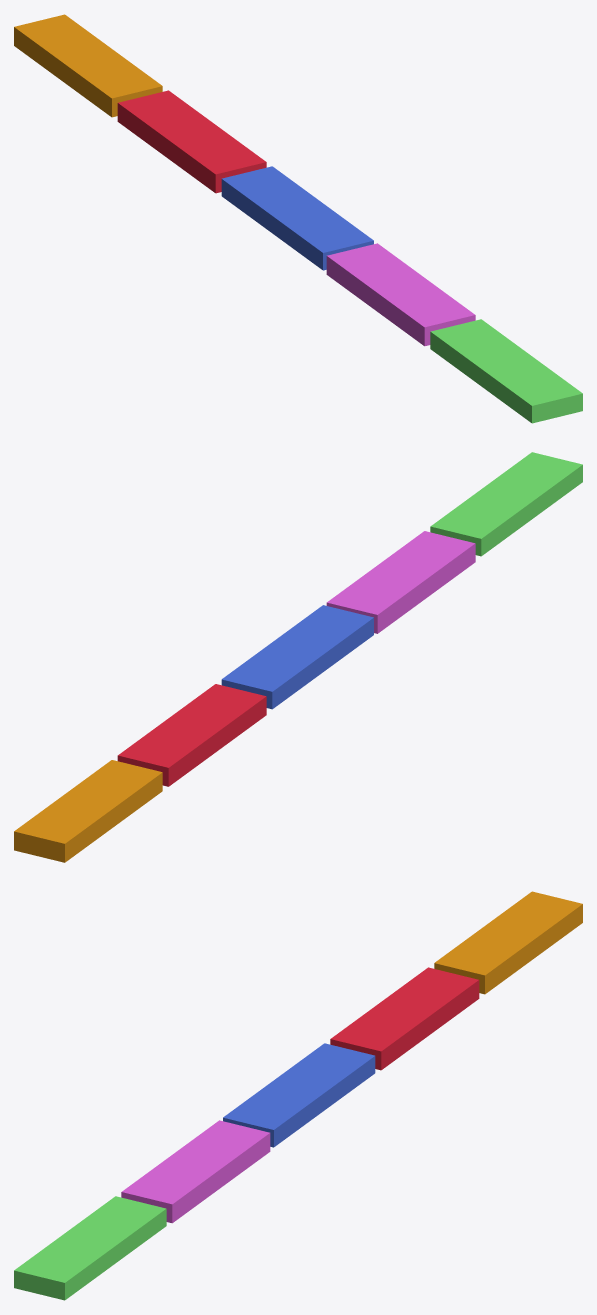
The model's file is koristecandy.fbx.
3 renders of one model, top to bottom at view 1: azimuth 30°, elevation 25°; view 2: azimuth 150°, elevation 25°; view 3: azimuth 330°, elevation 25°, orthographic.
Visible parts, largest first — view 1: Cube.001, Cube.003, Cube, Cube.004, Cube.002; view 2: Cube.004, Cube.001, Cube.002, Cube.003, Cube; view 3: Cube.001, Cube.003, Cube, Cube.004, Cube.002.
Boxes of the visible parts, bbox=[...] form: Cube.001: bbox=[430, 319, 582, 423]; Cube.003: bbox=[117, 90, 266, 193]; Cube: bbox=[326, 243, 475, 346]; Cube.004: bbox=[14, 14, 162, 117]; Cube.002: bbox=[221, 166, 373, 270]; Cube.004: bbox=[14, 760, 162, 862]; Cube.001: bbox=[430, 452, 582, 556]; Cube.002: bbox=[221, 605, 373, 709]; Cube.003: bbox=[117, 684, 266, 786]; Cube: bbox=[326, 531, 475, 633]; Cube.001: bbox=[14, 1196, 166, 1300]; Cube.003: bbox=[330, 967, 479, 1070]; Cube: bbox=[121, 1120, 270, 1223]; Cube.004: bbox=[434, 891, 582, 994]; Cube.002: bbox=[223, 1043, 375, 1147].
Bounding box in the file's own units: 200 × 71.6 × 3522.
